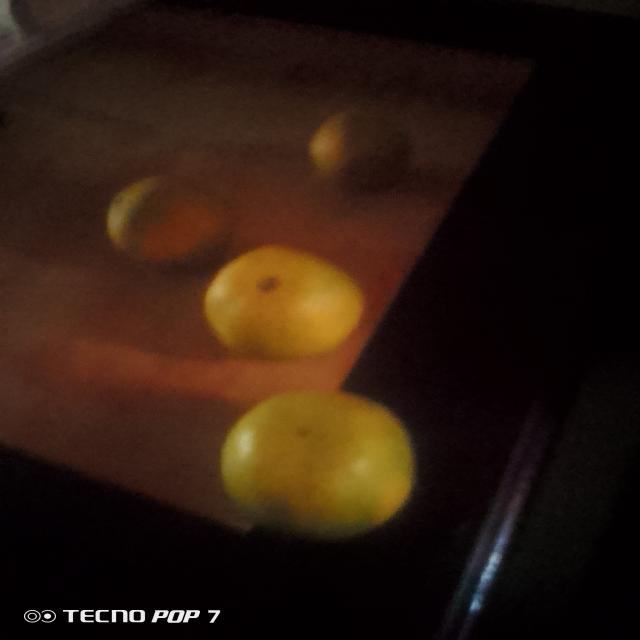Ripe orange: (212, 390, 447, 535), (196, 245, 377, 359), (107, 168, 220, 276), (309, 96, 405, 194)
